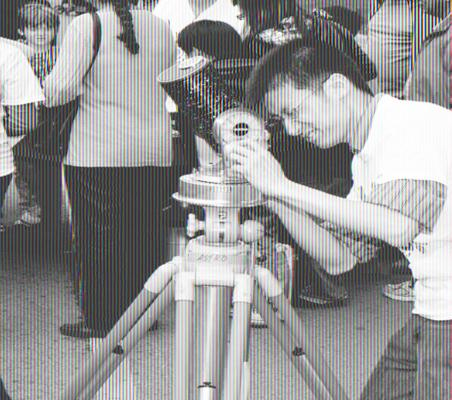person: (226, 39, 452, 400)
